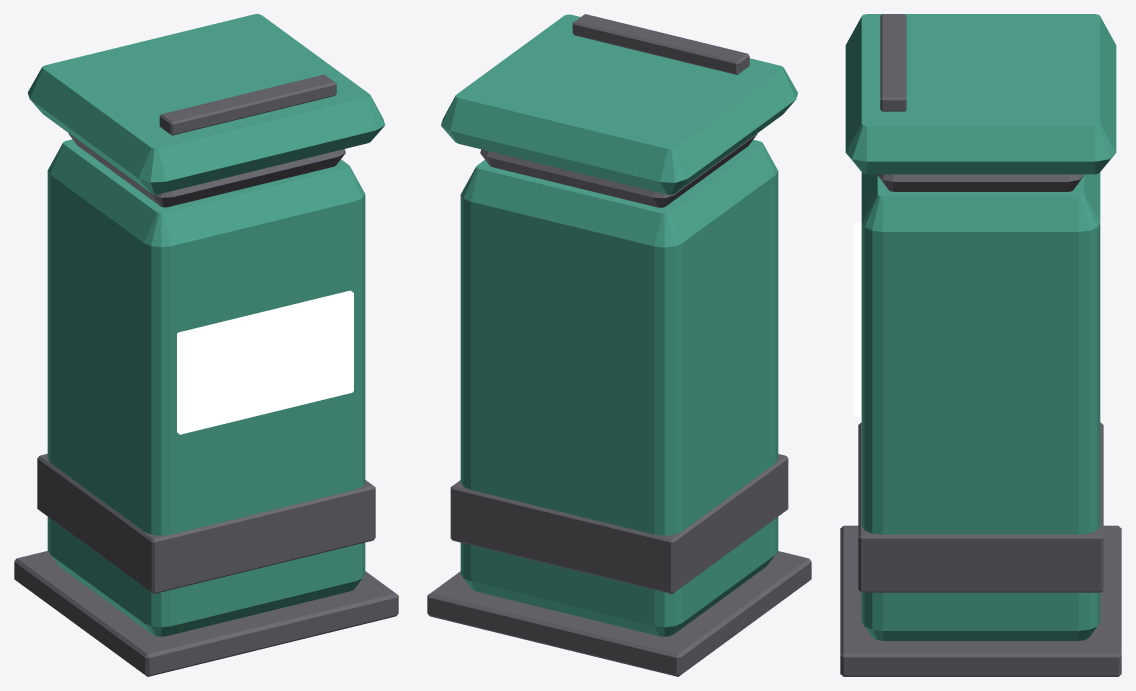
The model's file is petrol-station-and-forecourt-shop-forecourt-litter-bin-5dfdef80__33984.glb.
The picture shows the model from 3 angles, left to right: view 1: azimuth 30°, elevation 25°; view 2: azimuth 150°, elevation 25°; view 3: azimuth 270°, elevation 25°; orthographic projection. The views are drawn at different scales.
Visible parts, largest first — view 1: forecourt-litter-bin, bin-lid/accent, bin-lid/dark; view 2: forecourt-litter-bin, bin-lid/accent, bin-lid/dark; view 3: forecourt-litter-bin, bin-lid/accent, bin-lid/dark.
Part boxes in pixels (bbox=[...]): forecourt-litter-bin: bbox=[14, 133, 398, 676]; bin-lid/accent: bbox=[27, 14, 384, 194]; bin-lid/dark: bbox=[159, 74, 336, 135]; forecourt-litter-bin: bbox=[427, 133, 811, 676]; bin-lid/accent: bbox=[441, 14, 797, 194]; bin-lid/dark: bbox=[572, 14, 749, 74]; forecourt-litter-bin: bbox=[840, 172, 1121, 676]; bin-lid/accent: bbox=[845, 14, 1116, 174]; bin-lid/dark: bbox=[880, 14, 906, 111].
Bounding box in the file's own units: 0.58 × 1.16 × 0.53.
